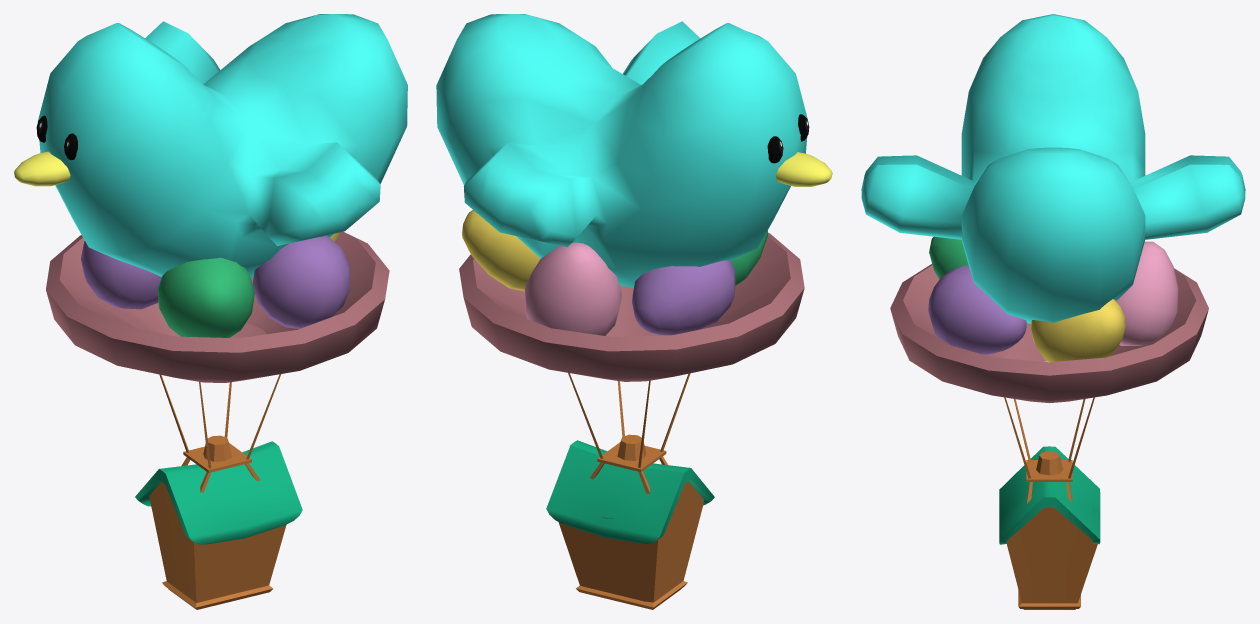
Rendered from BalloonJC-A.FBX.
The picture shows the model from 3 angles, left to right: view 1: azimuth 30°, elevation 25°; view 2: azimuth 150°, elevation 25°; view 3: azimuth 270°, elevation 25°; orthographic projection. The views are drawn at different scales.
Parts seen in each view (by area): view 1: BallonJC_Chicken, BallonJC_Basket001, BallonJC_Basket, Roof, BallonJC_Egg_04, BallonJC_Egg_02, BallonJC_Egg_01, beek, eyes; view 2: BallonJC_Chicken, BallonJC_Basket001, BallonJC_Basket, Roof, BallonJC_Egg_03, BallonJC_Egg_01, BallonJC_Egg_00, beek, BallonJC_Egg_02, eyes; view 3: BallonJC_Chicken, BallonJC_Basket001, BallonJC_Basket, BallonJC_Egg_04, Roof, BallonJC_Egg_03, BallonJC_Egg_00, BallonJC_Egg_02.
Part boxes in pixels (x1,y1,x2,y2): BallonJC_Chicken: (37, 14, 407, 277); BallonJC_Basket001: (46, 231, 389, 382); BallonJC_Basket: (149, 374, 286, 609); Roof: (135, 441, 302, 544); BallonJC_Egg_04: (252, 235, 350, 328); BallonJC_Egg_02: (157, 257, 254, 337); BallonJC_Egg_01: (81, 241, 161, 309); beek: (14, 151, 70, 186); eyes: (36, 115, 77, 160); BallonJC_Chicken: (436, 14, 808, 288); BallonJC_Basket001: (459, 232, 804, 381); BallonJC_Basket: (558, 373, 703, 609); Roof: (546, 440, 714, 543); BallonJC_Egg_03: (525, 242, 621, 335); BallonJC_Egg_01: (632, 260, 735, 335); BallonJC_Egg_00: (462, 210, 540, 291); beek: (776, 152, 832, 186); BallonJC_Egg_02: (730, 230, 767, 285); eyes: (767, 114, 809, 163); BallonJC_Chicken: (861, 14, 1245, 323); BallonJC_Basket001: (890, 264, 1208, 403); BallonJC_Basket: (1004, 397, 1097, 609); BallonJC_Egg_04: (928, 265, 1026, 354); Roof: (999, 446, 1100, 544); BallonJC_Egg_03: (1116, 241, 1178, 345); BallonJC_Egg_00: (1030, 299, 1125, 362); BallonJC_Egg_02: (929, 236, 968, 279).
Bounding box in the file's own units: 369 × 540 × 350.
1 material, 1 textured.
